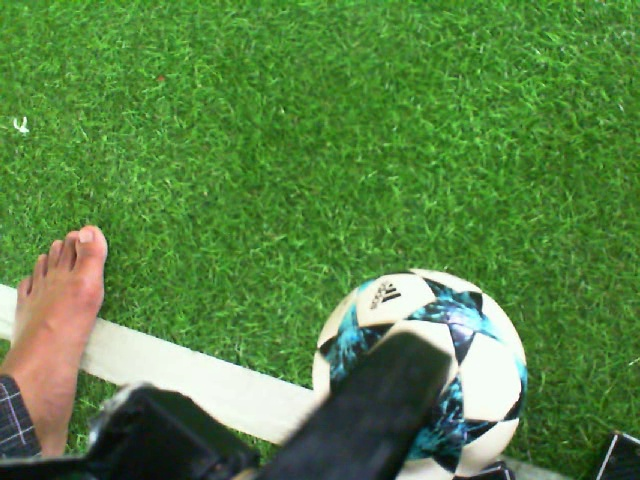ball: (310, 266, 530, 477)
